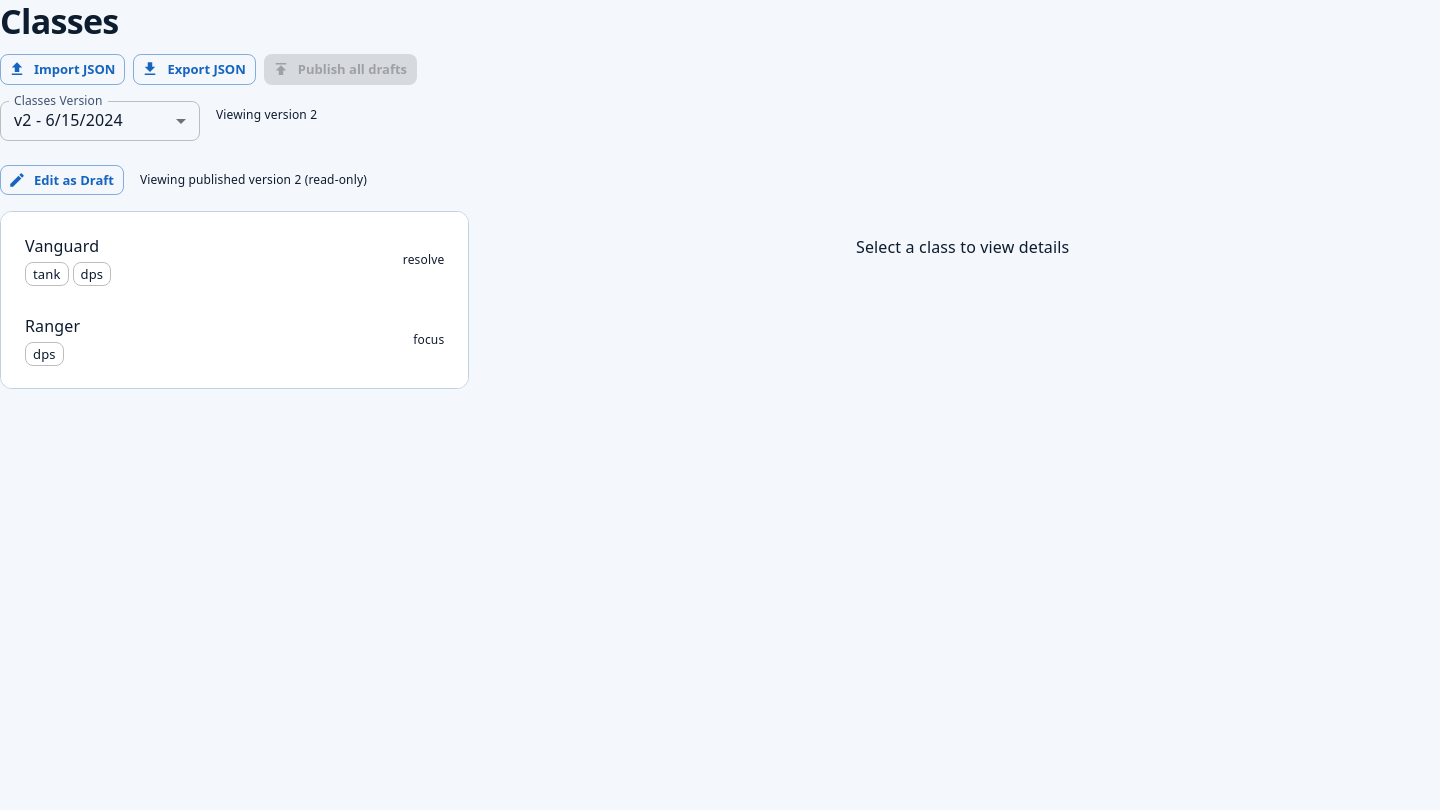
it: Draft Editing and Publishing › Add and delete draft entries (MMO-25) › adds a class with OpenAPI seed-shaped defaults
Step 1. Click the dropdown → (68,120), box [14,109,123,131]
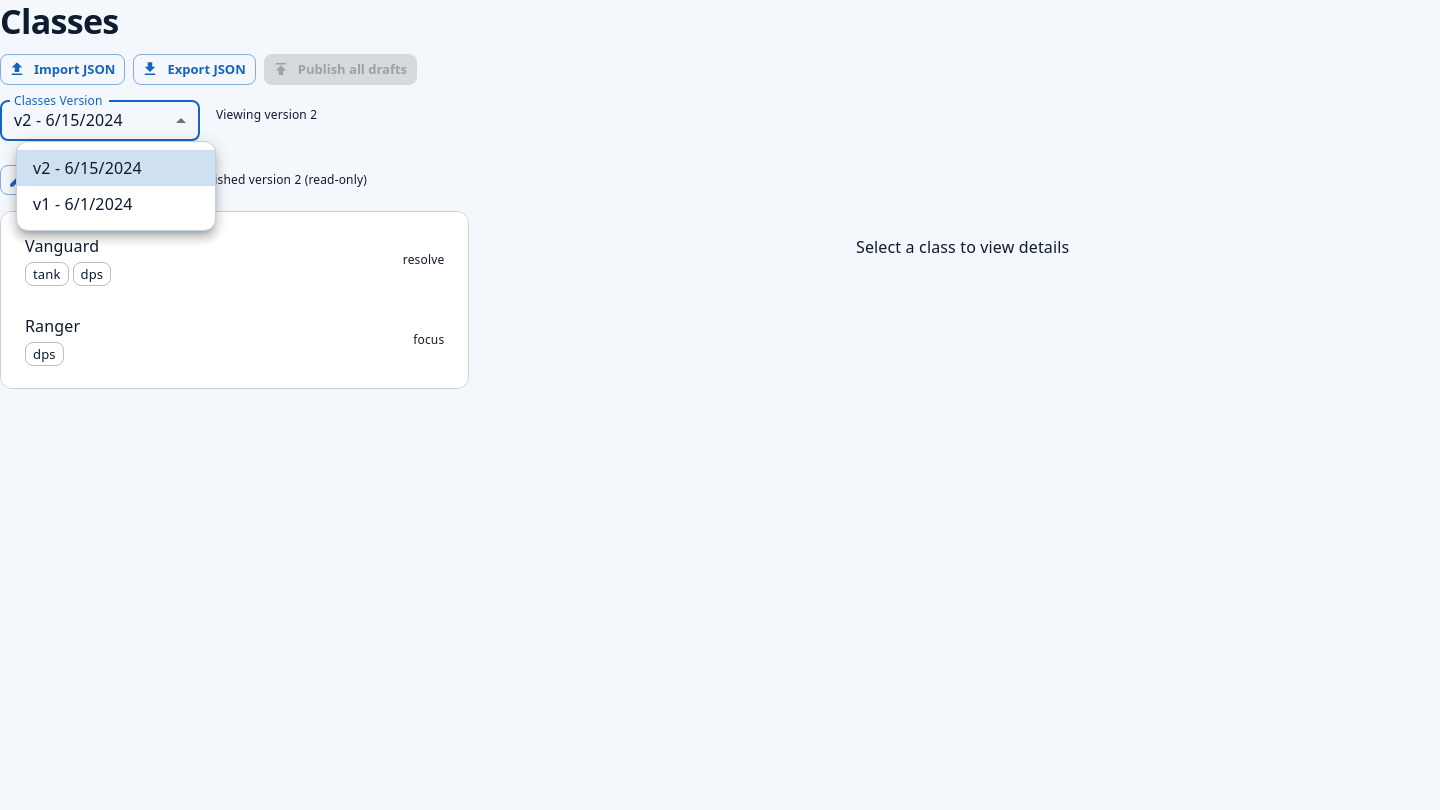
Step 2. Click the option "v2 - 6/15/2024" → (116,168), box [17,150,215,186]
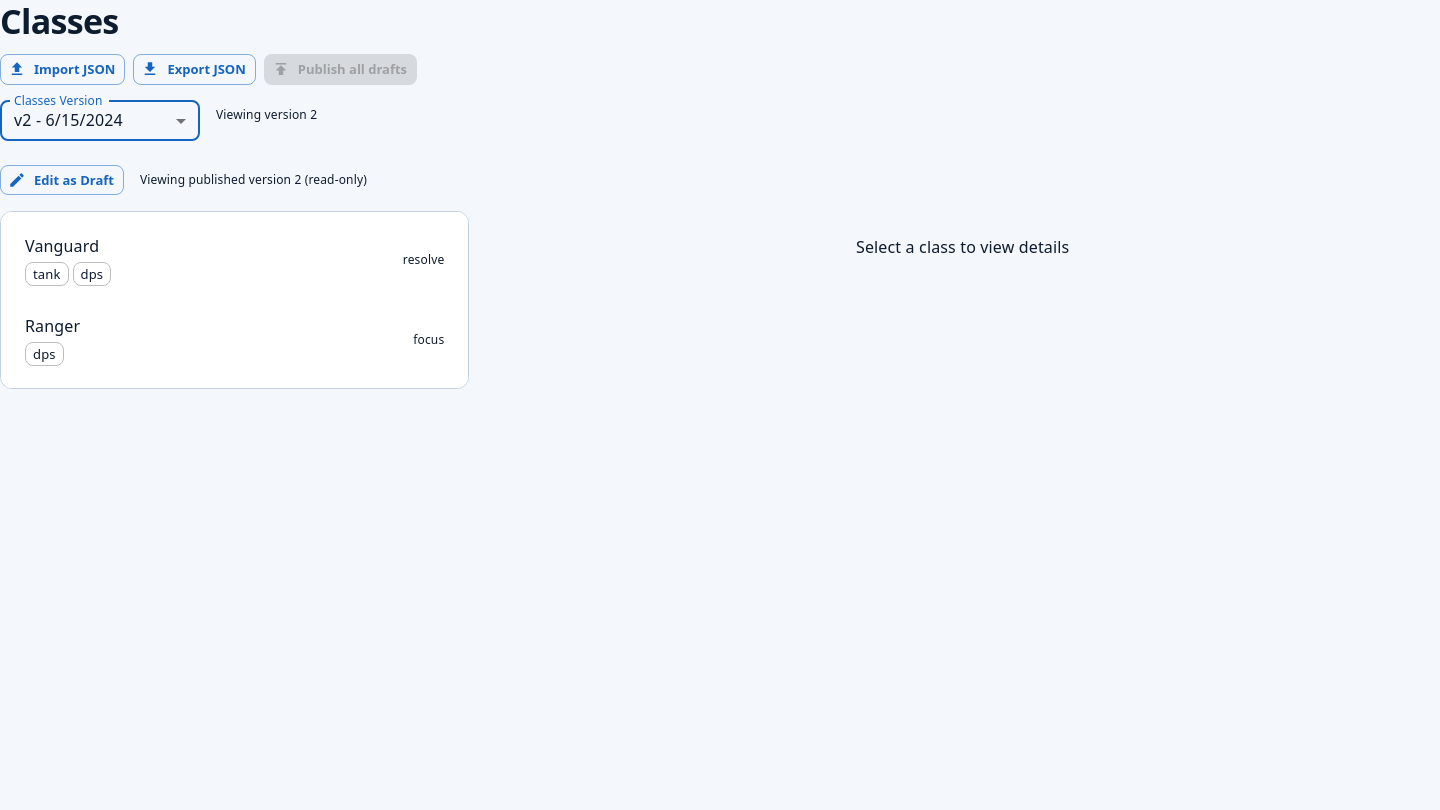
expect the text "Vanguard" is shown: met, box [25,235,99,257]
Step 3. Click the button "Edit as Draft" → (62,180), box [0,165,124,195]
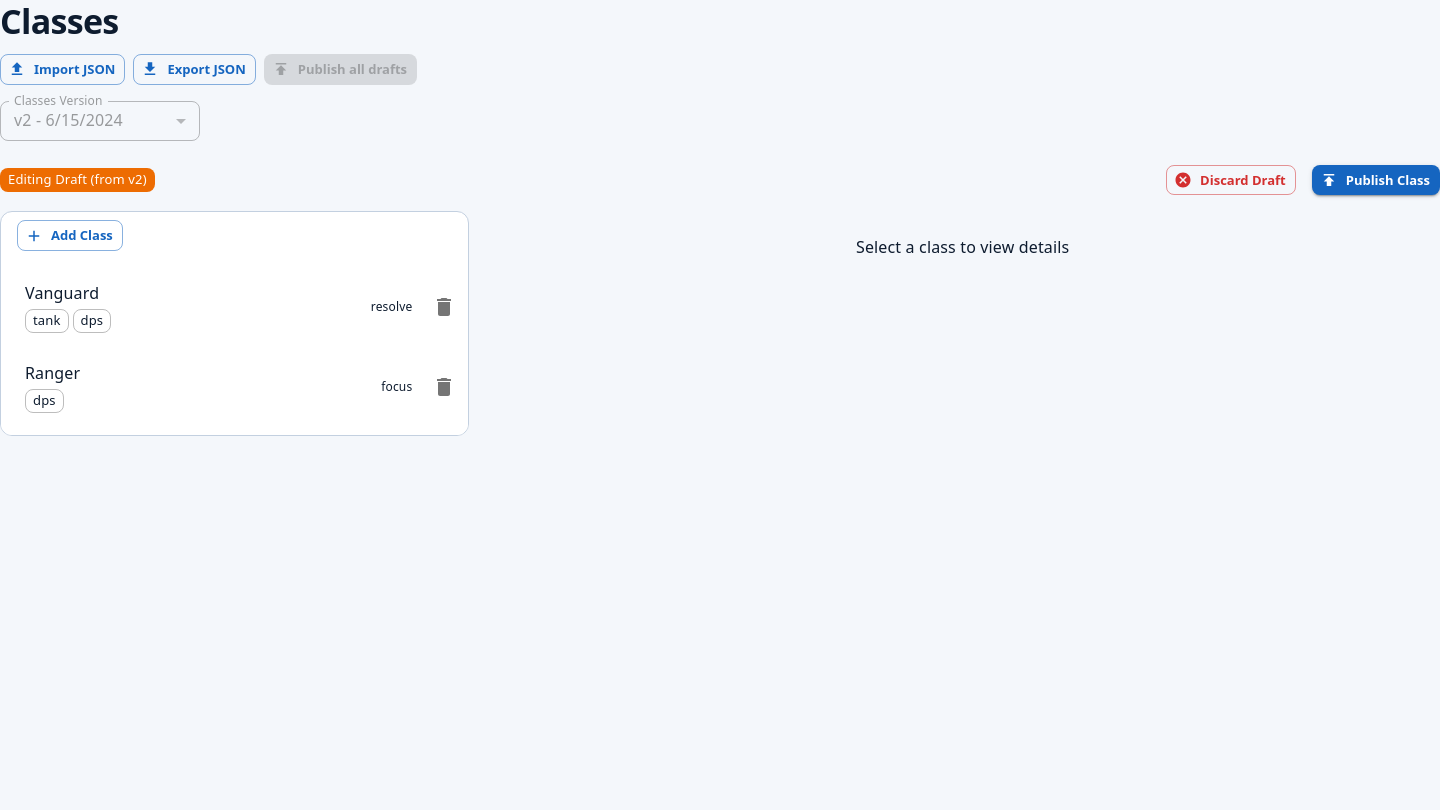
expect the text "Editing Draft (from v2)" is shown: met, box [0,170,155,190]
Step 4. Click the button "Add Class" → (70,236), box [17,220,123,251]
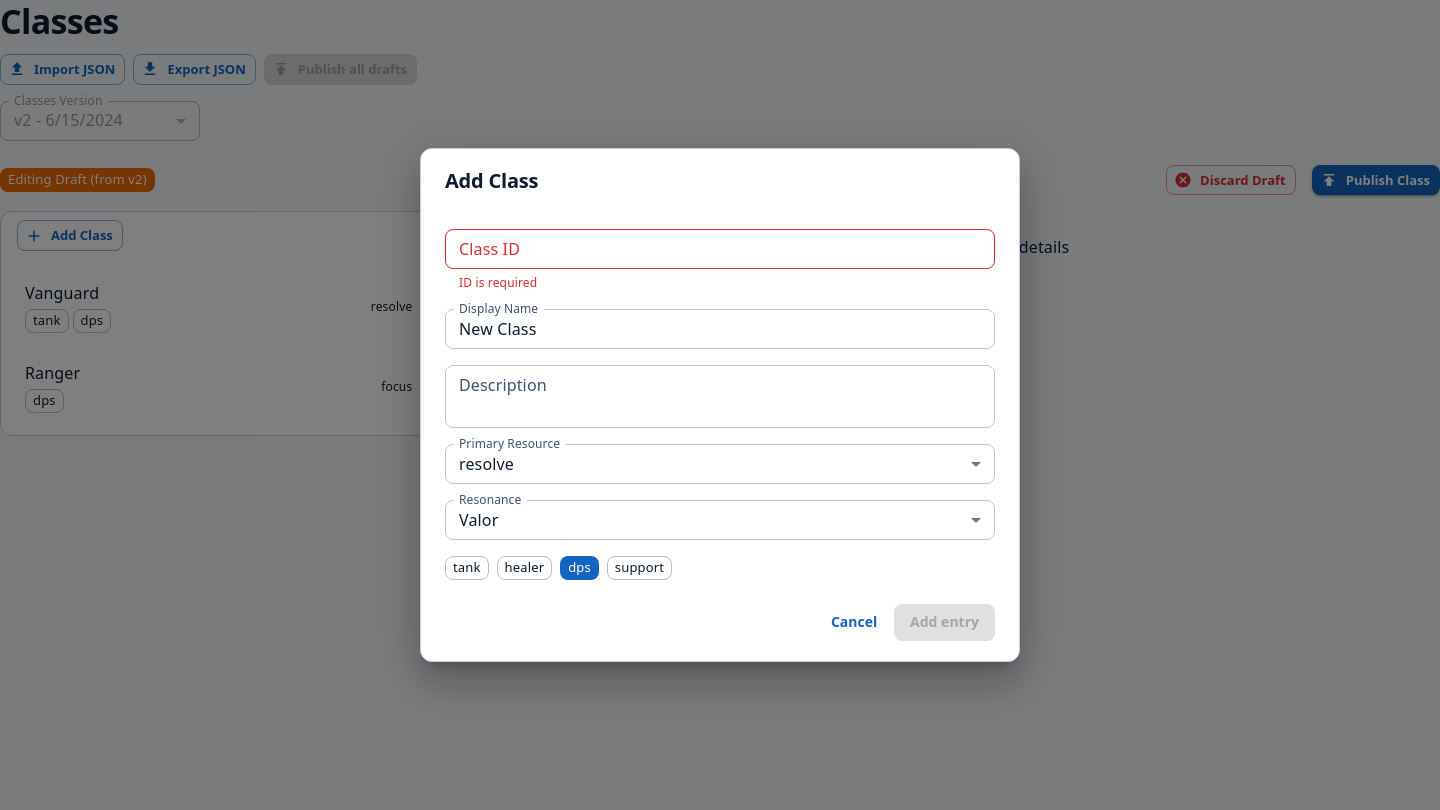
Step 5. Type "warden" into the field labelled "Class ID" → (720,249), box [445,229,995,269]
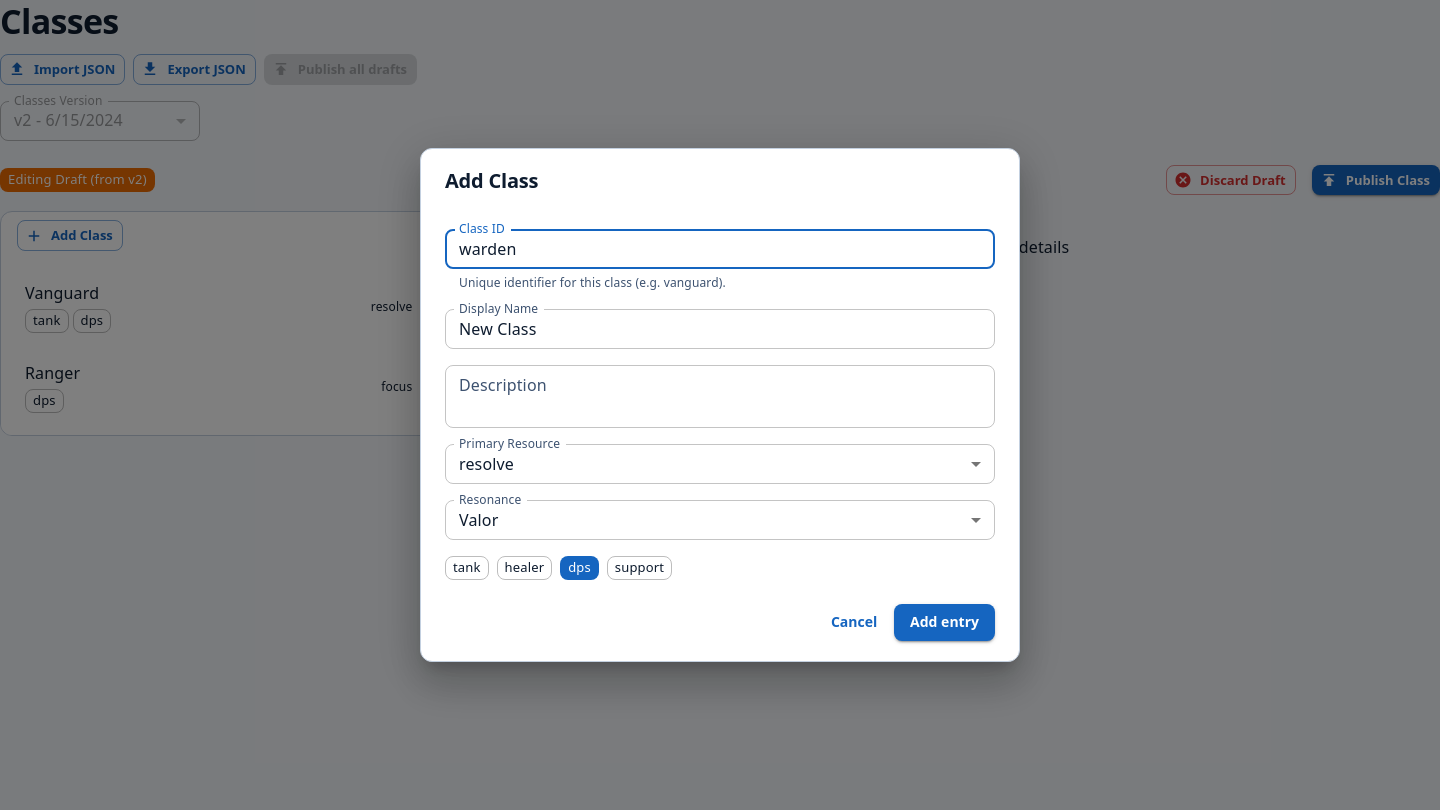
Step 6. Click the button "Add entry" → (945,622), box [894,604,995,641]
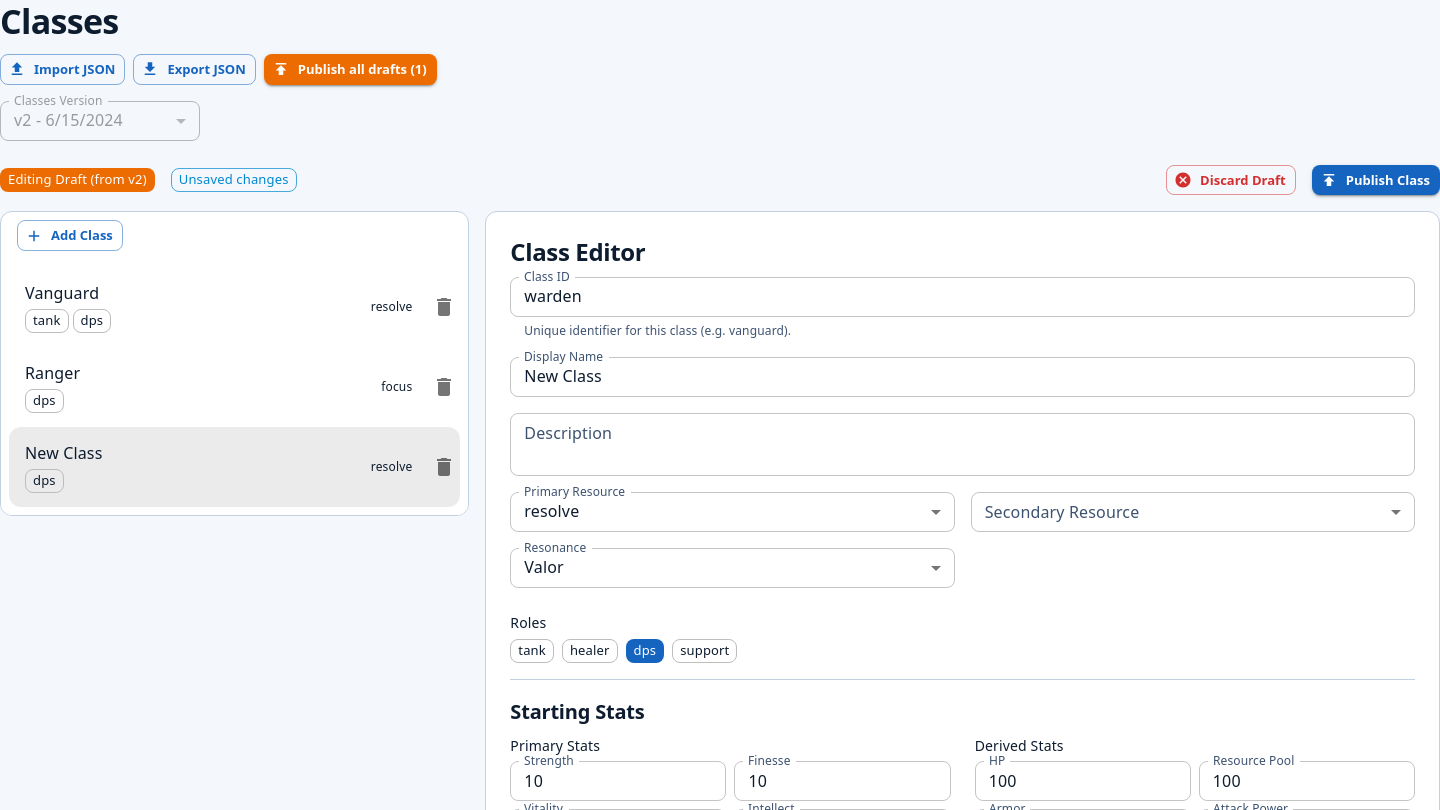
expect the text "New Class" is shown: met, box [25,442,102,464]
expect the field labelled "Class ID" holds "warden": met, box [510,277,1415,317]
expect the number field labelled "Strength" holds "10": met, box [510,761,726,801]
